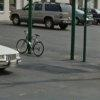Bicycle: (14, 21, 45, 63)
